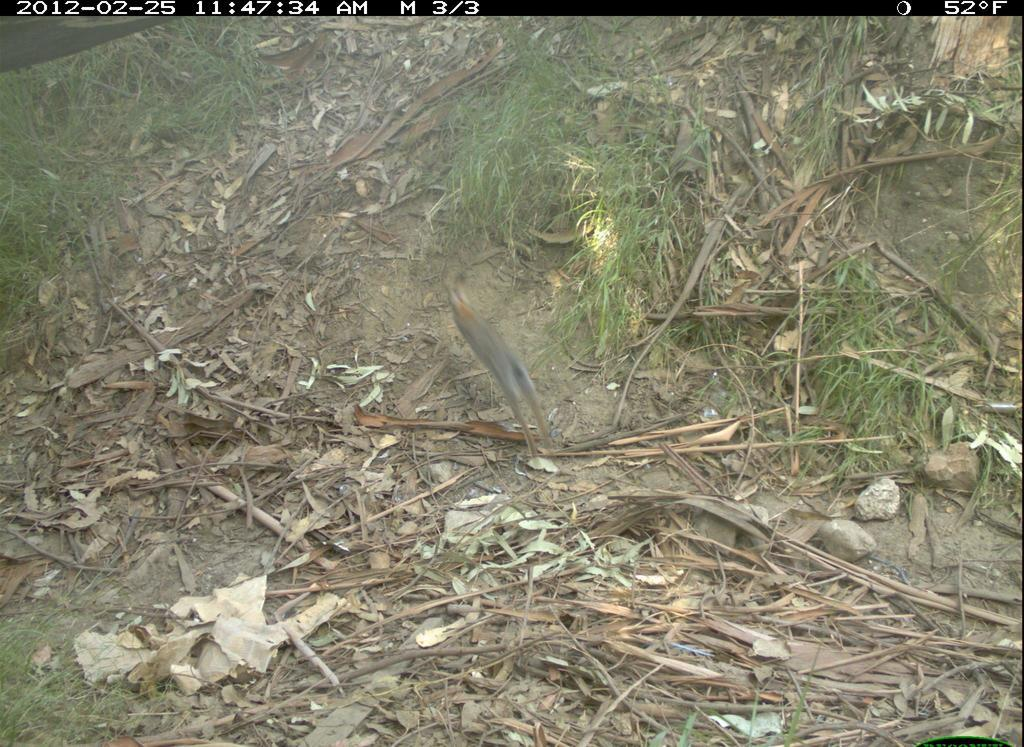rabbit: (437, 276, 569, 468)
